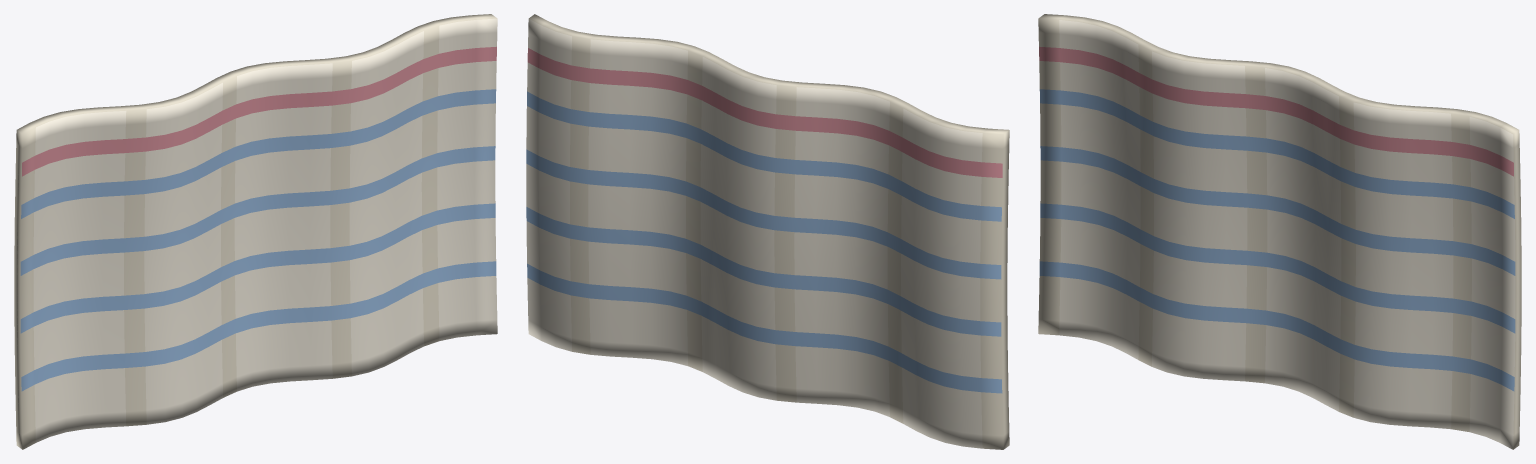
File: paper.glb
3 views of the same model, side by side, from view 1: azimuth 30°, elevation 25°; view 2: azimuth 150°, elevation 25°; view 3: azimuth 330°, elevation 25° (orthographic).
Visible parts, largest first — view 1: paper; view 2: paper; view 3: paper.
Part boxes in pixels (left/top/right/bottom): paper: left=14, top=14, right=497, bottom=449; paper: left=526, top=14, right=1009, bottom=449; paper: left=1038, top=14, right=1521, bottom=449.
Size of the model in its own units: 1 by 0.635 by 0.084.
1 material, 1 textured.
